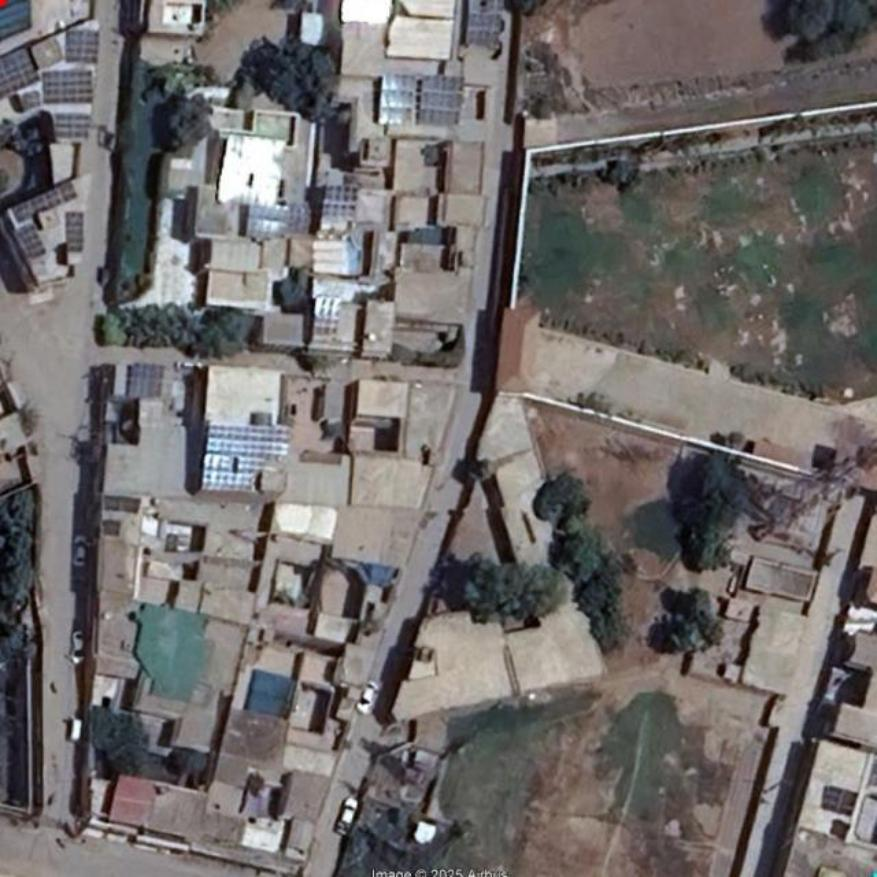Solarpanel: (199, 422, 292, 491), (217, 136, 287, 205), (14, 182, 77, 222), (245, 204, 312, 238), (417, 75, 463, 123), (0, 48, 41, 101), (378, 75, 415, 124), (469, 0, 503, 47), (42, 73, 95, 102), (128, 363, 164, 396), (314, 298, 340, 342), (322, 187, 360, 216), (66, 30, 100, 62), (16, 225, 46, 258), (56, 115, 92, 138), (66, 210, 83, 250)
